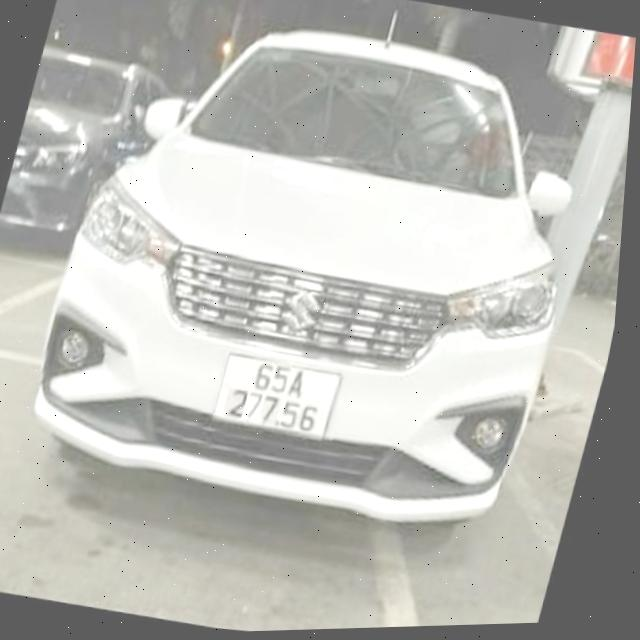car: (0, 0, 640, 565)
plate: (196, 340, 362, 453)
